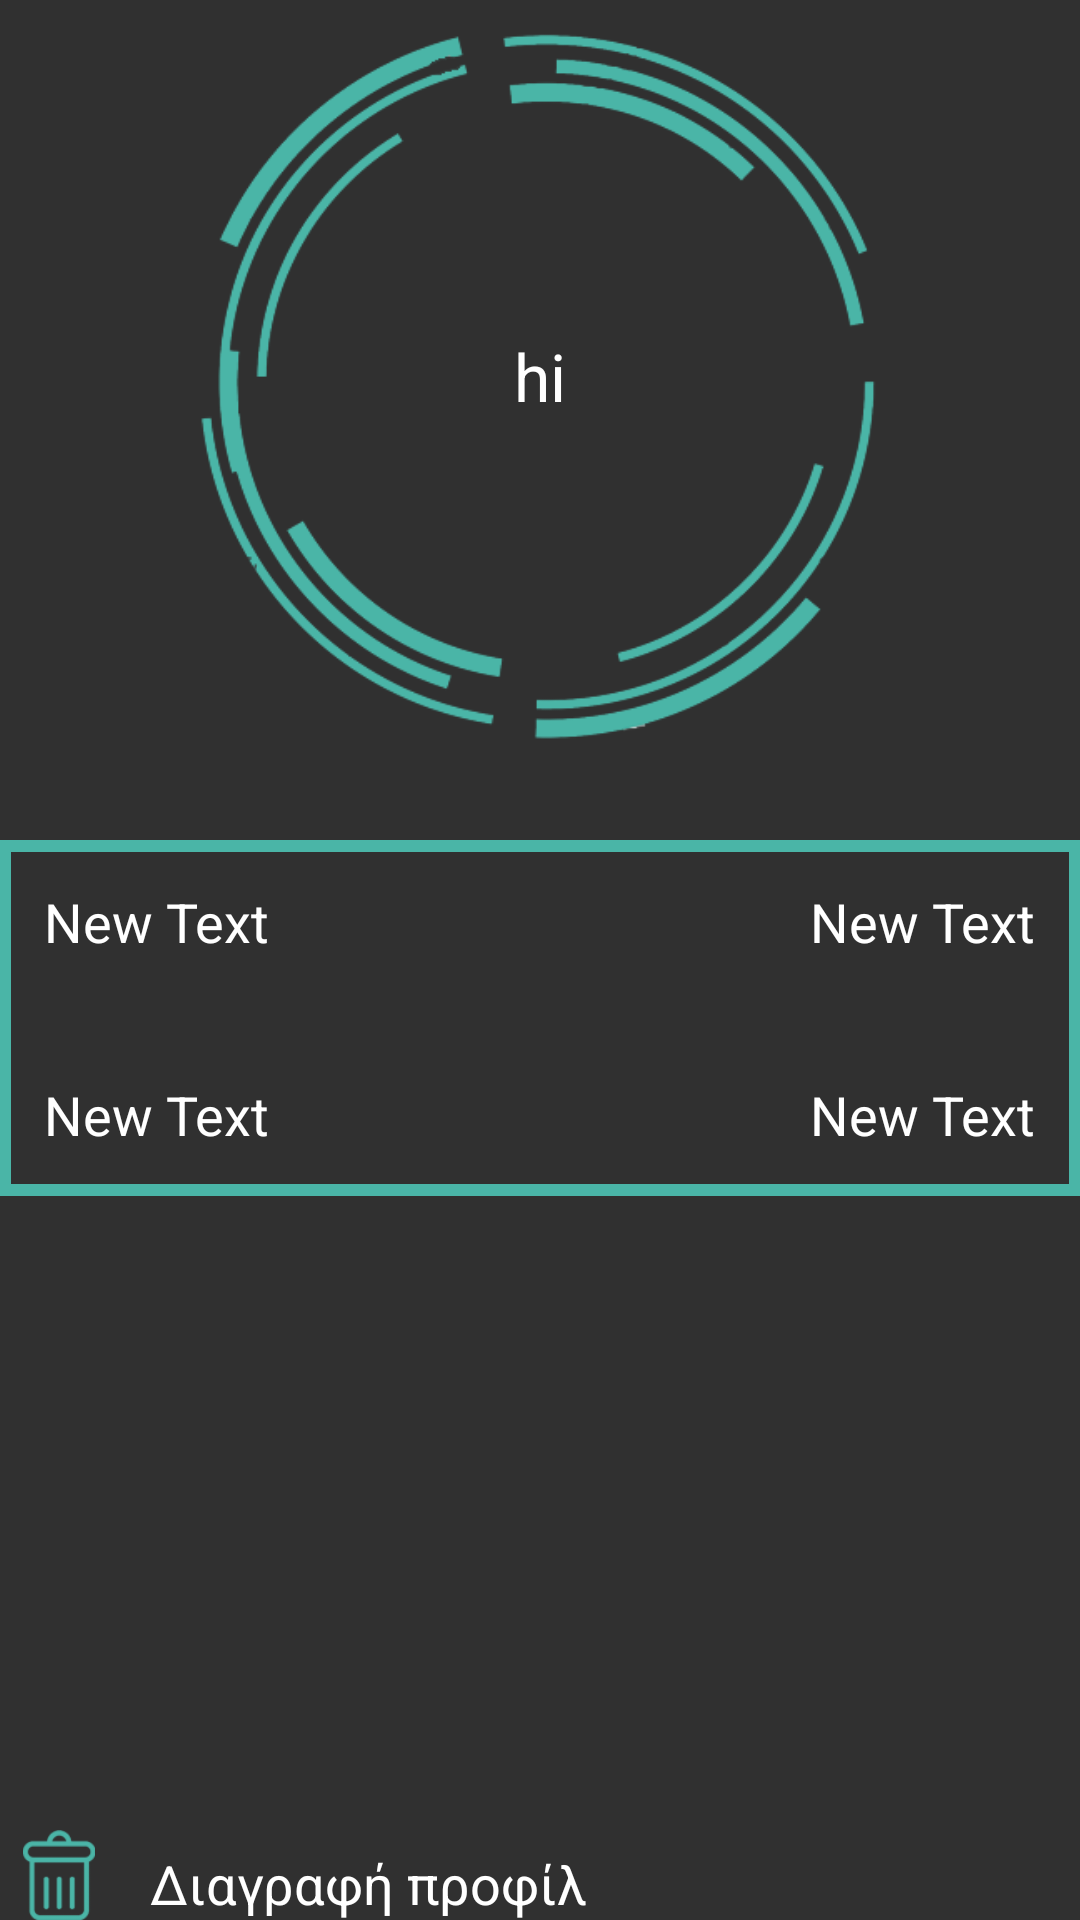

Named icons in this screenshot (1080px×1920px) and their centers, [x,y]:
trash: [59,1875]
